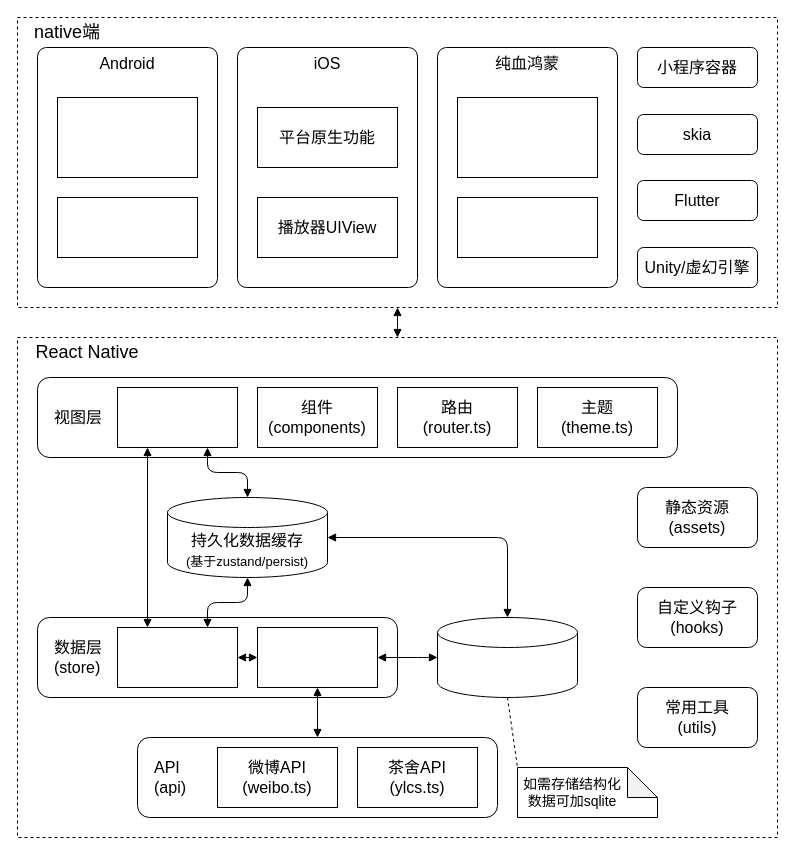
Image size: 795x855. Some labels were removed from this diagram. The centre of each missing label's shape, as x and y in pixels:
"MMKV (高性能KV数据库)" belongs at point (507, 657).
"业务逻辑" belongs at point (317, 657).
"播放器 Fragment/View" belongs at point (127, 227).
"播放器 Page/Component" belongs at point (527, 227).
"服务/通知/桌面组件/权限申请等平台原生功能" belongs at point (127, 137).
"状态管理 (zustand)" belongs at point (177, 657).
"通知/原子服务/权限申请等平台原生功能" belongs at point (527, 137).
"页面 (pages)" belongs at point (177, 417).
